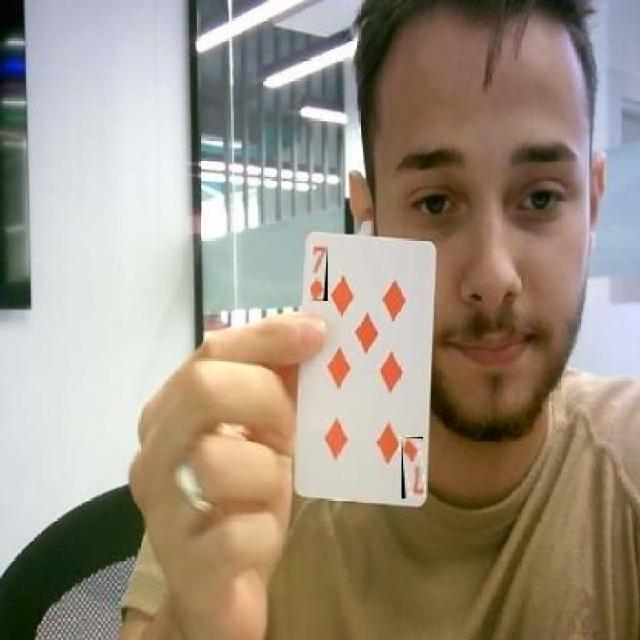7D: (402, 437, 423, 498), (310, 245, 328, 300)
